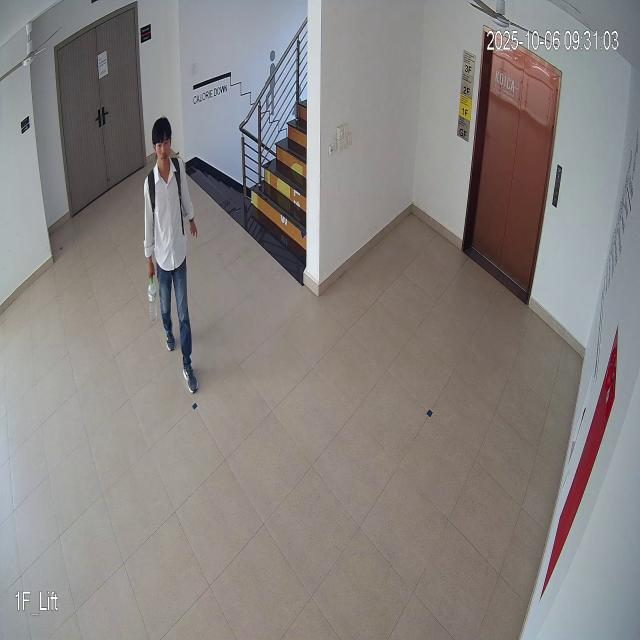face: (151, 114, 176, 176)
